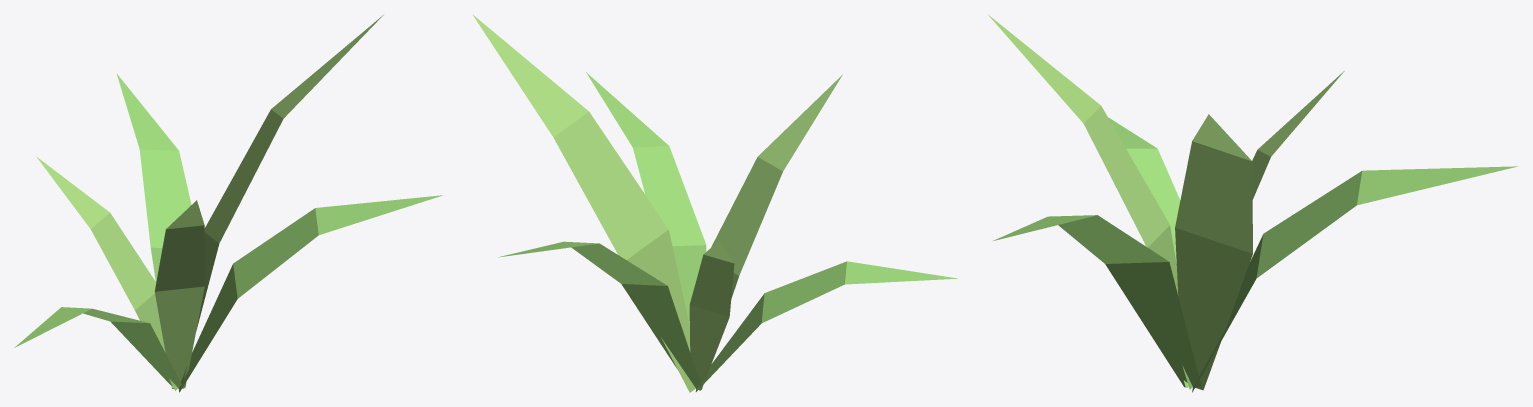
Rendered from fern1.fbx.
The picture shows the model from 3 angles, left to right: view 1: azimuth 30°, elevation 25°; view 2: azimuth 150°, elevation 25°; view 3: azimuth 270°, elevation 25°; orthographic projection. The views are drawn at different scales.
Visible parts, largest first — view 1: Plant_e_TwoS_06; view 2: Plant_e_TwoS_06; view 3: Plant_e_TwoS_06.
Boxes of the visible parts, left/top/right/bottom form: Plant_e_TwoS_06: left=14, top=15, right=442, bottom=392; Plant_e_TwoS_06: left=472, top=14, right=957, bottom=392; Plant_e_TwoS_06: left=988, top=14, right=1518, bottom=392.
Bounding box in the file's own units: 64.09 × 74.92 × 54.17.
Materials: 1 (1 with a texture image).
